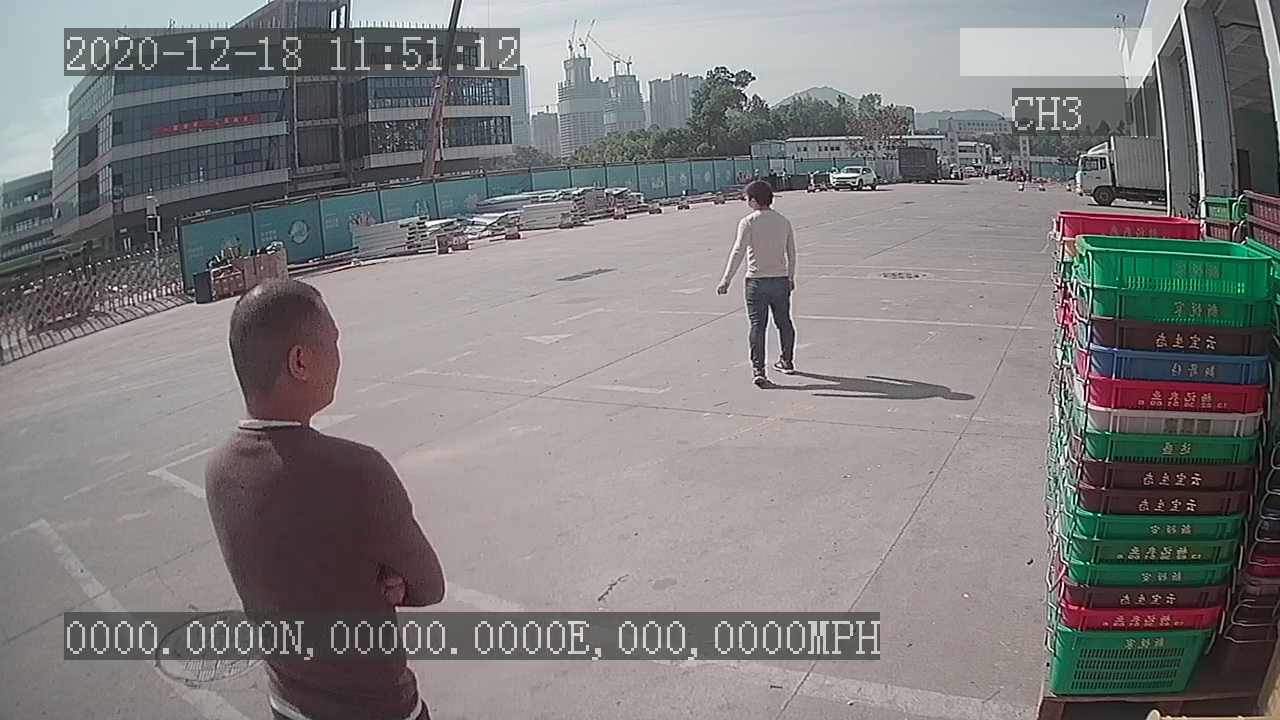person: (709, 176, 802, 392)
